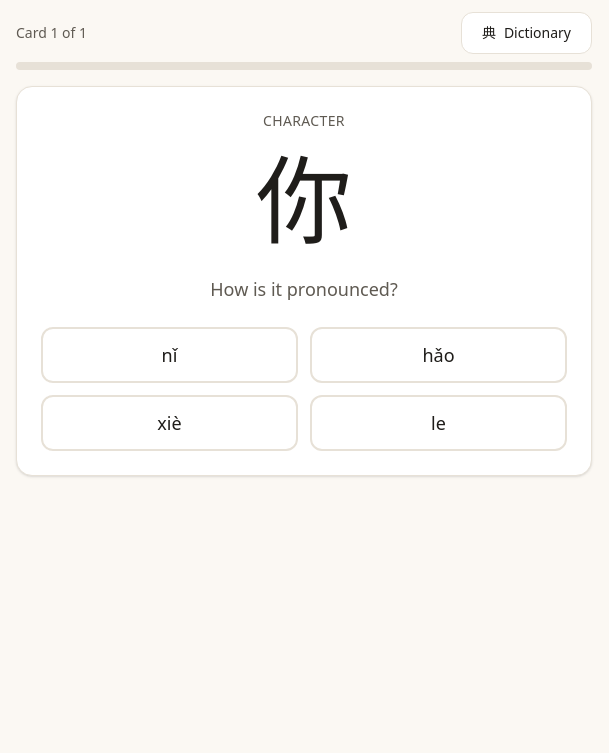
PracticeSession › works the same with multiple-choice exercises
The width and height of the screenshot is (609, 753).
Click the button "hǎo": x=438, y=355 [310,327,567,383]
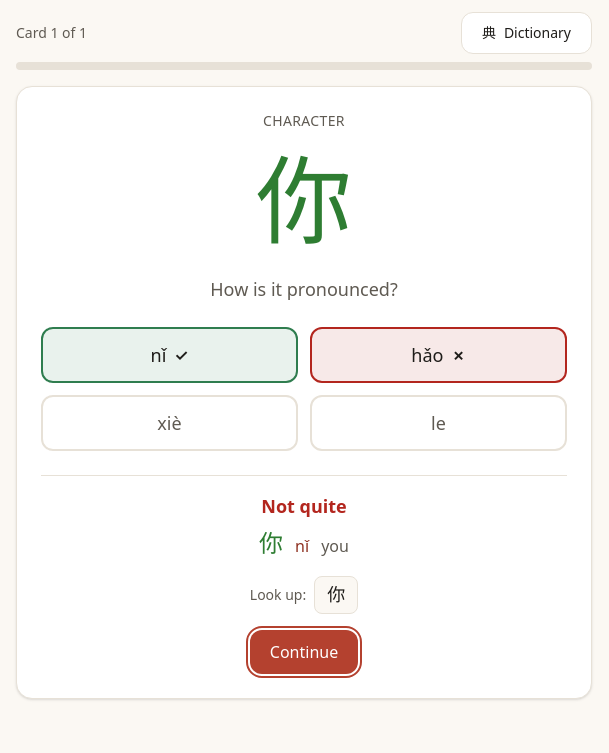
Click the button "Continue": x=304, y=652 [250,630,358,674]
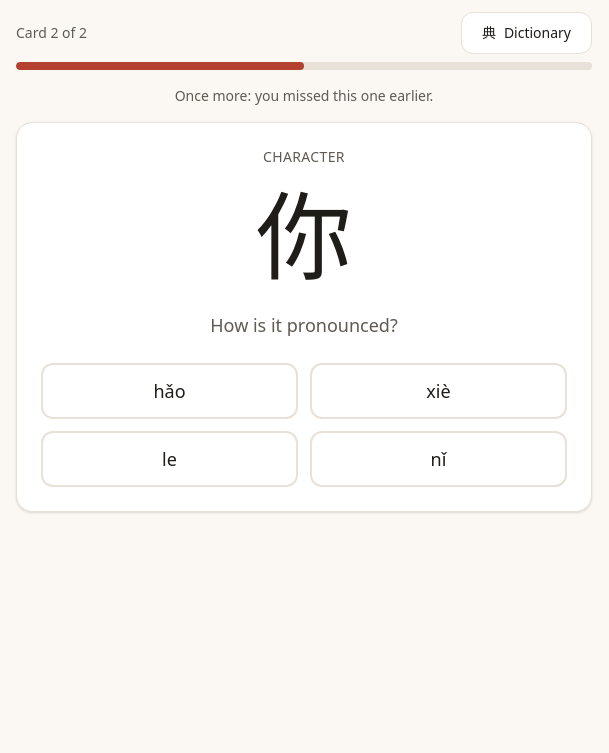
Click the button "nǐ": x=438, y=459 [310,431,567,487]
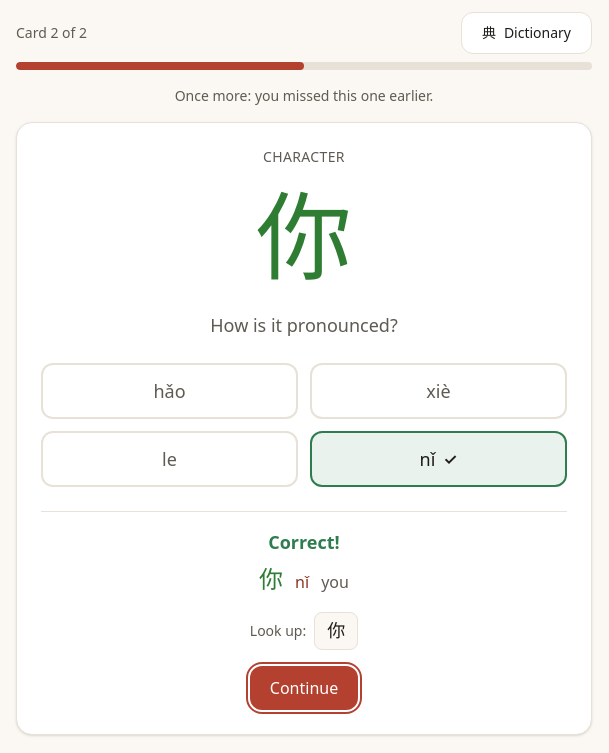
Click the button "Continue": x=304, y=688 [250,666,358,710]
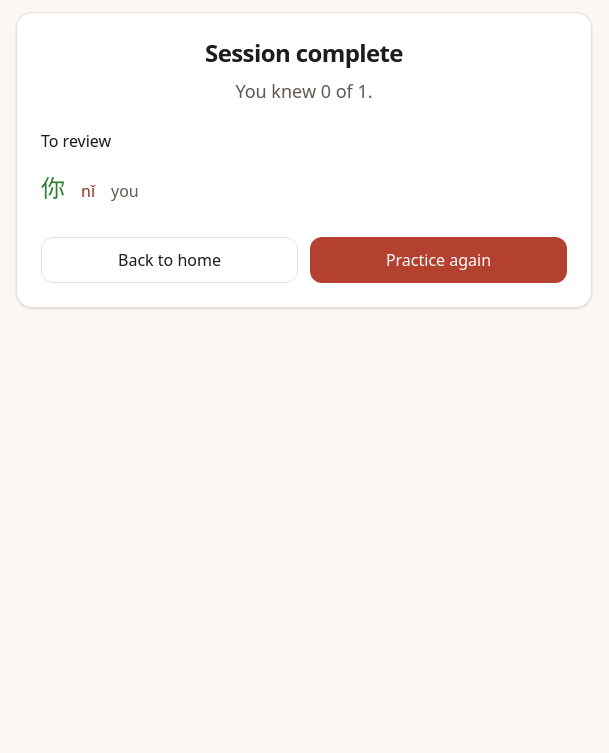
Expected: the text "你" is shown, [41,175,65,202]
Expected: the text "You knew 0 of 1." is shown, [235,79,373,103]
